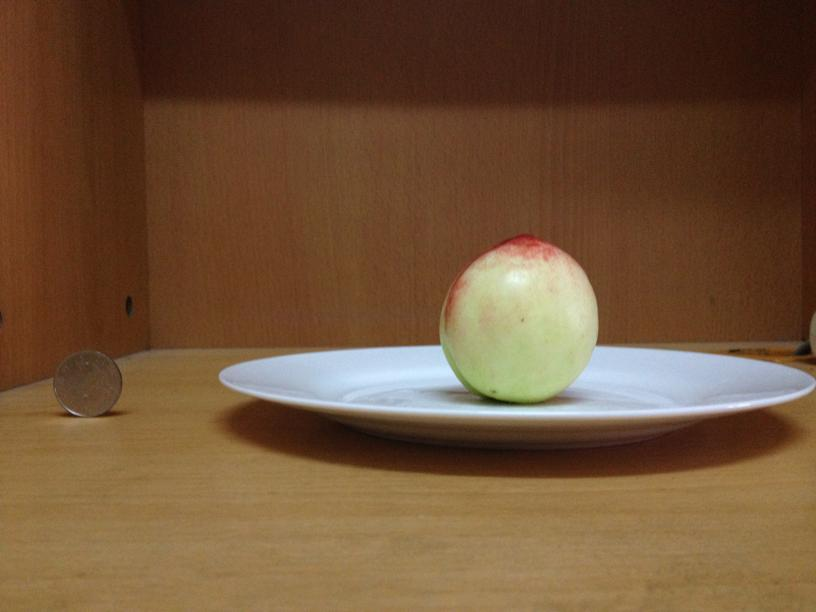coin: (48, 348, 124, 418)
peach: (431, 234, 599, 405)
